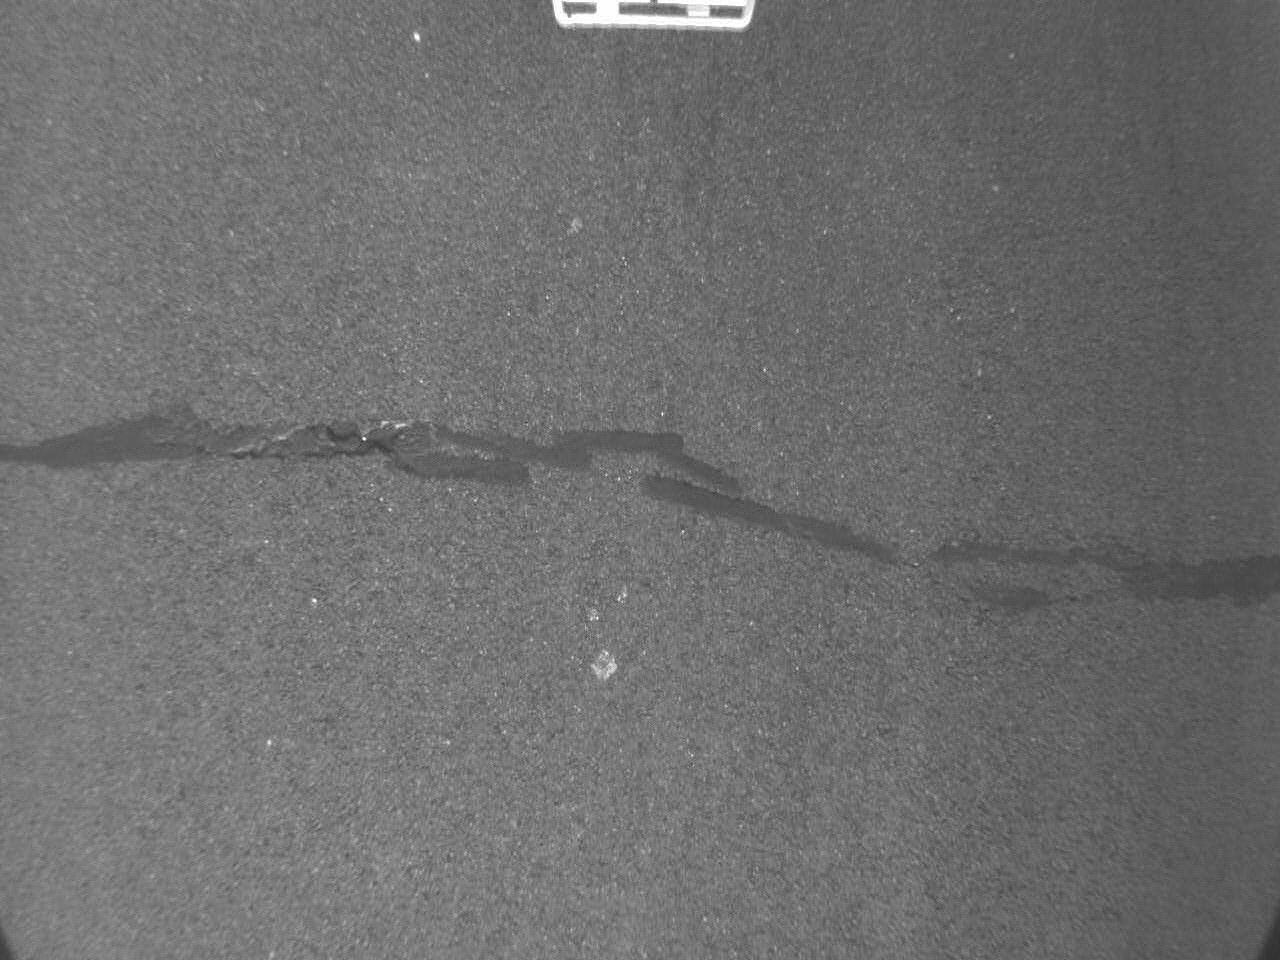sealed: (4, 394, 928, 590)
